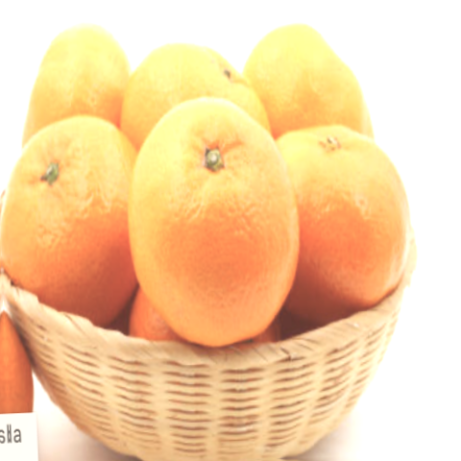orange: (117, 85, 315, 349), (245, 104, 450, 321), (0, 94, 154, 356)
